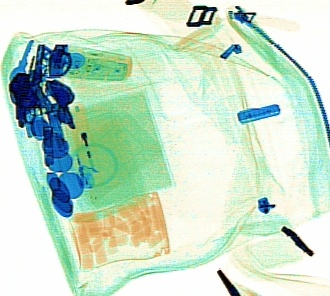lighter: (61, 98, 100, 188)
